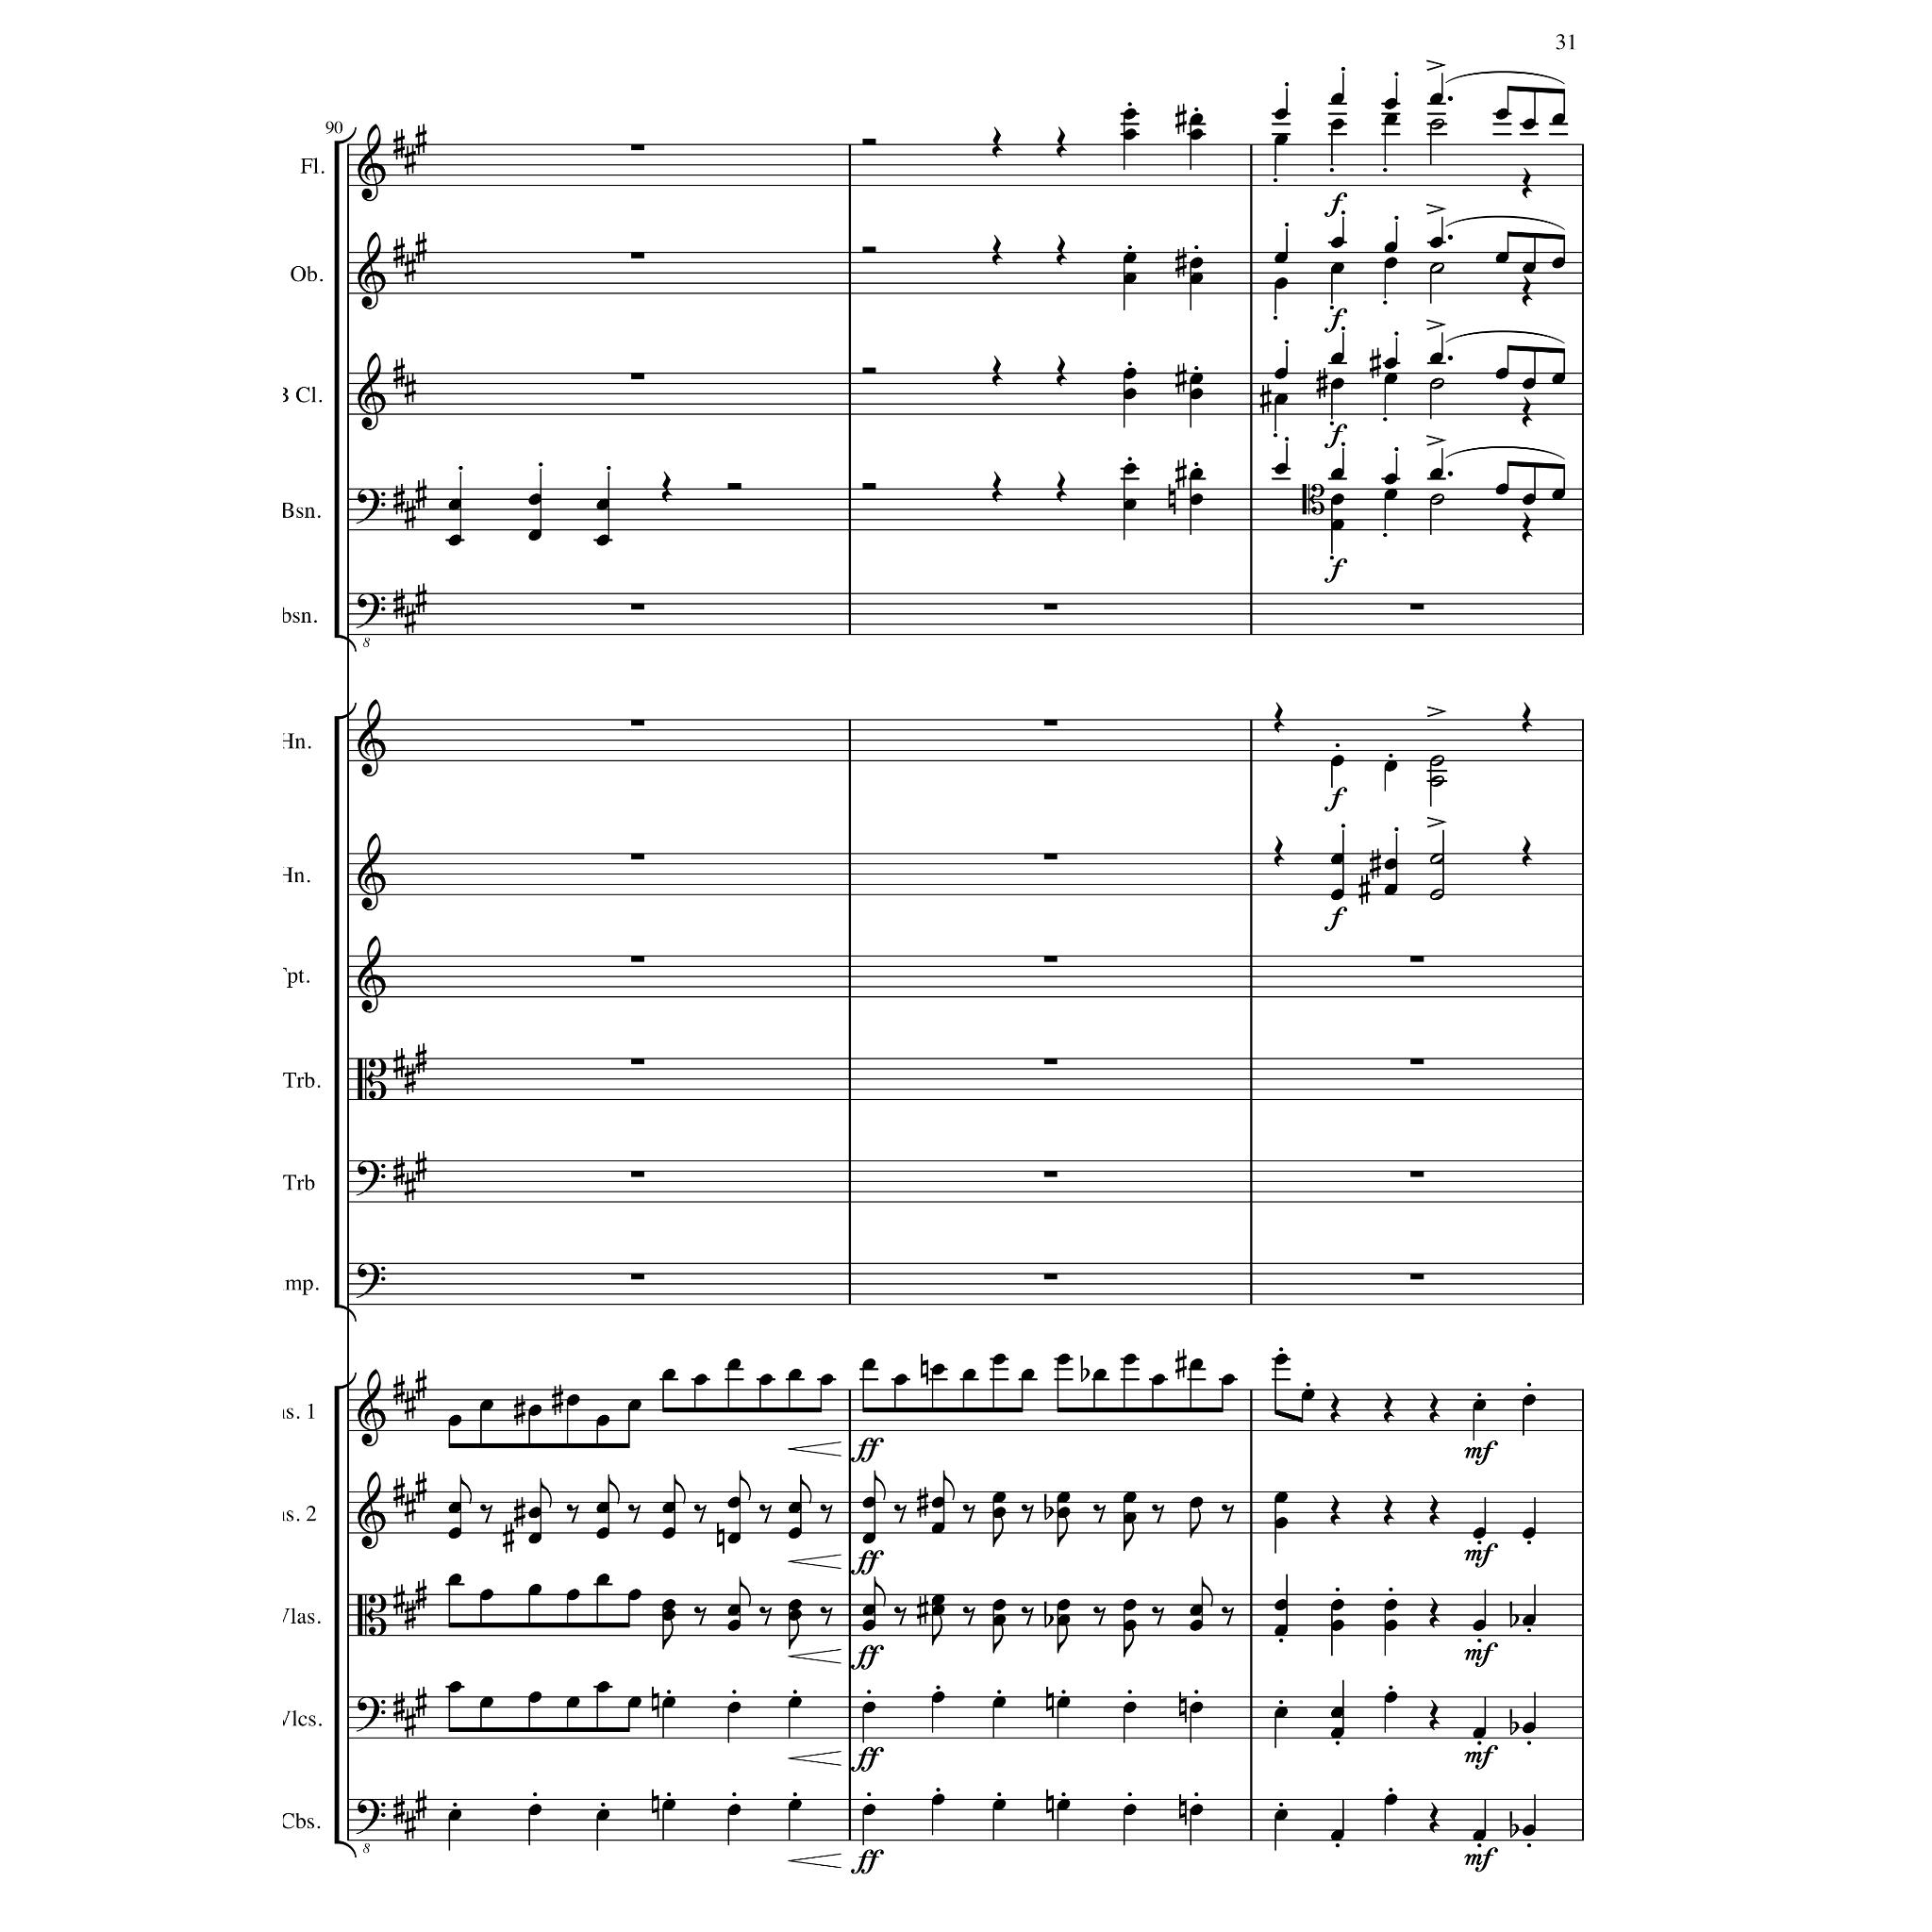fClef: (354, 593, 386, 630), (354, 488, 386, 524), (354, 1263, 386, 1299), (354, 1161, 386, 1196), (354, 1799, 386, 1835), (354, 1697, 386, 1732)
flag8thDown: (662, 1619, 674, 1651), (1056, 1516, 1069, 1548), (1189, 1507, 1201, 1537), (1056, 1624, 1069, 1654), (993, 1516, 1003, 1548), (789, 1619, 800, 1651), (993, 1624, 1003, 1654), (1123, 1628, 1134, 1658), (1123, 1522, 1134, 1552), (932, 1615, 941, 1645)
flag8thUp: (1201, 1578, 1214, 1608), (460, 1474, 472, 1504), (800, 1474, 812, 1504), (943, 1470, 955, 1500), (609, 1474, 619, 1504), (740, 1578, 750, 1608), (740, 1470, 750, 1500), (674, 1474, 685, 1504), (541, 1479, 552, 1509), (874, 1578, 885, 1608), (874, 1470, 885, 1500)
gClef: (357, 699, 386, 778), (357, 352, 386, 430), (357, 232, 386, 310), (357, 124, 386, 202), (357, 1472, 386, 1550), (357, 1369, 386, 1447), (357, 936, 386, 1014), (357, 833, 386, 911)
noteheadBlack: (1330, 352, 1345, 364), (1330, 755, 1345, 768), (1330, 467, 1345, 479), (1330, 494, 1345, 506), (1330, 1829, 1345, 1842), (1330, 1707, 1345, 1720), (1330, 1727, 1345, 1739), (1330, 1619, 1345, 1631), (1330, 853, 1345, 865), (1330, 262, 1345, 274), (1330, 119, 1345, 131), (1300, 1389, 1315, 1401), (1384, 257, 1398, 269), (1384, 242, 1398, 255), (1384, 113, 1398, 126), (1384, 97, 1398, 110), (1384, 1794, 1398, 1806), (1384, 1691, 1398, 1704), (1384, 1619, 1398, 1631), (1384, 858, 1398, 870), (1384, 883, 1398, 895), (1384, 759, 1398, 771), (1384, 488, 1398, 501), (1384, 472, 1398, 485), (1384, 372, 1398, 384), (1384, 357, 1398, 370), (1189, 372, 1203, 384), (1221, 1375, 1235, 1387), (1189, 494, 1203, 506), (1189, 467, 1203, 479), (1274, 133, 1288, 145), (1274, 393, 1288, 405), (1274, 368, 1288, 380), (1274, 278, 1288, 290), (1274, 251, 1288, 264), (1274, 108, 1288, 120), (1189, 387, 1203, 400), (1189, 1702, 1203, 1714), (1189, 1803, 1203, 1815), (1189, 1497, 1203, 1509), (1189, 1619, 1203, 1631), (1189, 1605, 1203, 1617), (1189, 272, 1203, 285), (1189, 129, 1203, 142), (1189, 113, 1203, 126), (1274, 1808, 1288, 1821), (1274, 1707, 1288, 1720), (1274, 1624, 1288, 1637), (1274, 1491, 1288, 1504), (1274, 1516, 1288, 1529), (1274, 1353, 1288, 1366), (1189, 257, 1203, 269), (1552, 488, 1566, 501), (1552, 372, 1566, 384), (1552, 257, 1566, 269), (1552, 113, 1566, 126), (1522, 1824, 1536, 1836), (1522, 1721, 1536, 1734), (1522, 1615, 1536, 1628), (1522, 1527, 1536, 1539), (1522, 1394, 1536, 1407), (1522, 494, 1536, 506), (1522, 262, 1536, 274), (1430, 467, 1444, 479), (1430, 352, 1444, 364), (1472, 1829, 1486, 1842), (1472, 1727, 1486, 1739), (1472, 1619, 1486, 1631), (1522, 119, 1536, 131), (1495, 483, 1509, 495), (1495, 368, 1509, 380), (1495, 251, 1509, 264), (1495, 108, 1509, 120), (1472, 1527, 1486, 1539), (1472, 1399, 1486, 1412), (626, 1697, 640, 1709), (626, 1589, 640, 1601), (626, 1399, 640, 1412), (662, 1368, 676, 1380), (662, 1697, 676, 1709), (662, 1608, 676, 1621), (662, 1502, 676, 1514), (662, 1527, 676, 1539), (566, 1589, 580, 1601), (566, 1697, 580, 1709), (566, 1394, 580, 1407), (787, 1697, 801, 1709), (787, 1608, 801, 1621), (787, 1502, 801, 1514), (787, 1527, 801, 1539), (787, 1368, 801, 1380), (727, 1803, 741, 1815), (727, 1702, 741, 1714), (727, 1605, 741, 1617), (727, 1619, 741, 1631), (727, 1497, 741, 1509), (727, 1532, 741, 1545), (527, 494, 541, 506), (527, 529, 541, 541), (527, 1405, 541, 1417), (479, 1697, 494, 1709), (479, 1589, 494, 1601), (479, 1399, 494, 1412), (527, 1803, 541, 1815), (527, 1691, 541, 1704), (527, 1583, 541, 1596), (527, 1507, 541, 1520), (527, 1532, 541, 1545), (448, 1681, 462, 1693), (448, 1573, 462, 1585), (448, 1502, 462, 1514), (448, 1527, 462, 1539), (448, 499, 462, 511), (448, 534, 462, 547), (448, 1808, 462, 1821), (1021, 1368, 1035, 1380), (1056, 1697, 1070, 1709), (1056, 1615, 1070, 1628), (1056, 1491, 1070, 1504), (1056, 1507, 1070, 1520), (1056, 1353, 1070, 1366), (993, 1697, 1007, 1709), (993, 1615, 1007, 1628), (993, 1491, 1007, 1504), (993, 1507, 1007, 1520), (993, 1353, 1007, 1366), (1122, 1803, 1136, 1815), (1122, 1702, 1136, 1714), (1122, 1619, 1136, 1631), (1122, 1491, 1136, 1504), (1122, 1511, 1136, 1523), (1122, 1353, 1136, 1366), (1122, 499, 1136, 511), (1122, 368, 1136, 380), (1122, 387, 1136, 400), (1152, 1375, 1166, 1387), (1122, 251, 1136, 264), (1122, 272, 1136, 285), (1122, 108, 1136, 120), (1122, 129, 1136, 142), (1093, 1368, 1108, 1380), (962, 1368, 977, 1380), (819, 1375, 833, 1387), (862, 1497, 876, 1509), (862, 1803, 876, 1815), (862, 1702, 876, 1714), (862, 1605, 876, 1617), (862, 1619, 876, 1631), (862, 1532, 876, 1545), (931, 1794, 945, 1806), (931, 1691, 945, 1704), (931, 1594, 945, 1606), (931, 1605, 945, 1617), (931, 1497, 945, 1509), (931, 1522, 945, 1534), (931, 1364, 945, 1376), (893, 1375, 908, 1387), (596, 1502, 609, 1514), (596, 1808, 609, 1821), (596, 1681, 609, 1693), (596, 1573, 609, 1585), (596, 1527, 609, 1539), (596, 499, 609, 511), (596, 534, 609, 547), (759, 1375, 771, 1387), (694, 1375, 706, 1387), (1330, 379, 1345, 389), (1330, 520, 1345, 531), (1330, 1599, 1345, 1610), (1330, 890, 1345, 901), (1330, 237, 1345, 248), (1330, 94, 1345, 104), (1384, 1599, 1398, 1610), (1274, 464, 1288, 474), (1189, 1359, 1203, 1369), (1274, 1599, 1288, 1610), (1522, 379, 1536, 389), (1430, 94, 1444, 104), (1430, 237, 1444, 248), (662, 1799, 676, 1810), (662, 1599, 676, 1610), (787, 1799, 801, 1810), (727, 1359, 741, 1369), (448, 1415, 462, 1426), (787, 1599, 801, 1610), (1056, 1799, 1070, 1810), (1056, 1599, 1070, 1610), (993, 1799, 1007, 1810), (993, 1599, 1007, 1610), (1122, 1599, 1136, 1610), (1122, 464, 1136, 474), (862, 1359, 876, 1369), (596, 1415, 609, 1426)
noteheadHalf: (1430, 755, 1444, 768), (1430, 494, 1444, 506), (1430, 262, 1444, 274), (1430, 119, 1444, 131), (1430, 853, 1444, 865), (1430, 777, 1444, 787), (1430, 379, 1444, 389), (1430, 890, 1444, 901)
rest8th: (1092, 1606, 1106, 1628), (1092, 1504, 1106, 1523), (1221, 1606, 1233, 1628), (1152, 1606, 1164, 1628), (759, 1606, 771, 1628), (694, 1606, 706, 1628), (1021, 1606, 1033, 1628), (962, 1606, 975, 1628), (819, 1606, 832, 1628), (893, 1606, 906, 1628), (1221, 1504, 1233, 1523), (628, 1504, 640, 1523), (566, 1504, 579, 1523), (759, 1504, 771, 1523), (694, 1504, 706, 1523), (479, 1504, 492, 1523), (1021, 1504, 1033, 1523), (962, 1504, 975, 1523), (1152, 1504, 1164, 1523), (819, 1504, 832, 1523), (893, 1504, 906, 1523)
restHalf: (727, 483, 741, 490), (862, 483, 876, 490), (862, 246, 876, 253), (862, 368, 876, 373), (862, 140, 876, 145)
restQuarter: (1428, 1801, 1440, 1835), (991, 126, 1003, 159), (1329, 1392, 1341, 1424), (1329, 1495, 1341, 1527), (1428, 1698, 1440, 1730), (1428, 1598, 1440, 1629), (1428, 1495, 1440, 1527), (1428, 1392, 1440, 1424), (991, 471, 1003, 502), (991, 356, 1003, 387), (991, 235, 1003, 267), (1274, 835, 1284, 869), (1522, 835, 1532, 869), (1522, 166, 1532, 200), (1056, 126, 1067, 159), (1384, 1495, 1394, 1527), (1384, 1392, 1394, 1424), (1274, 702, 1284, 734), (1522, 702, 1532, 734), (1522, 513, 1532, 545), (1522, 396, 1532, 428), (1522, 276, 1532, 308), (662, 471, 672, 502), (1056, 235, 1067, 267), (1056, 471, 1067, 502), (1056, 356, 1067, 387)
restWhole: (1042, 853, 1056, 860), (1042, 955, 1056, 962), (1042, 1058, 1056, 1065), (1042, 1171, 1056, 1178), (1042, 1274, 1056, 1281), (1410, 1274, 1424, 1281), (630, 143, 644, 150), (1410, 1171, 1424, 1178), (1410, 1058, 1424, 1065), (1410, 955, 1424, 962), (630, 1274, 644, 1281), (630, 1171, 644, 1178), (630, 1058, 644, 1065), (630, 955, 644, 962), (630, 853, 644, 860), (630, 373, 644, 380), (1042, 605, 1056, 610), (1042, 720, 1056, 725), (1410, 605, 1424, 610), (630, 720, 644, 725), (630, 605, 644, 610), (630, 253, 644, 258)
